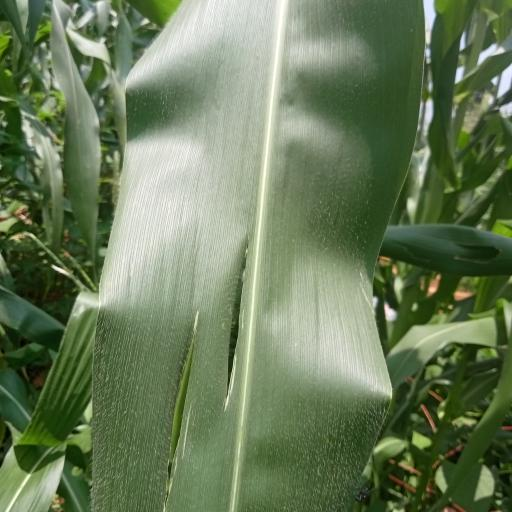Corn_Brown_Spots: (48, 0, 424, 509)
